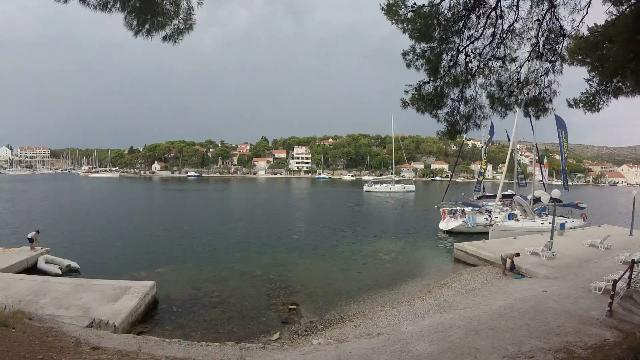Sailboat: (356, 175, 419, 195)
